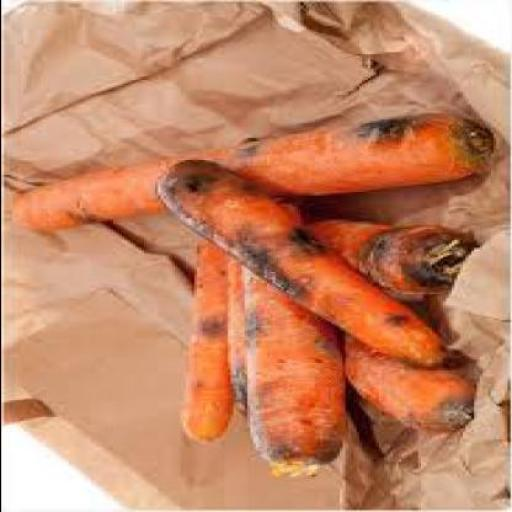biodegradable: (152, 159, 450, 370), (5, 116, 493, 229), (236, 261, 344, 475), (294, 212, 478, 298), (336, 333, 470, 434), (180, 226, 226, 440), (222, 250, 246, 417)
paper: (2, 0, 488, 116), (1, 230, 181, 511), (252, 472, 509, 510), (341, 430, 509, 475), (472, 241, 510, 430), (381, 186, 509, 225), (185, 439, 252, 510), (487, 50, 509, 186), (304, 198, 384, 216), (426, 300, 472, 328), (451, 331, 470, 371)
